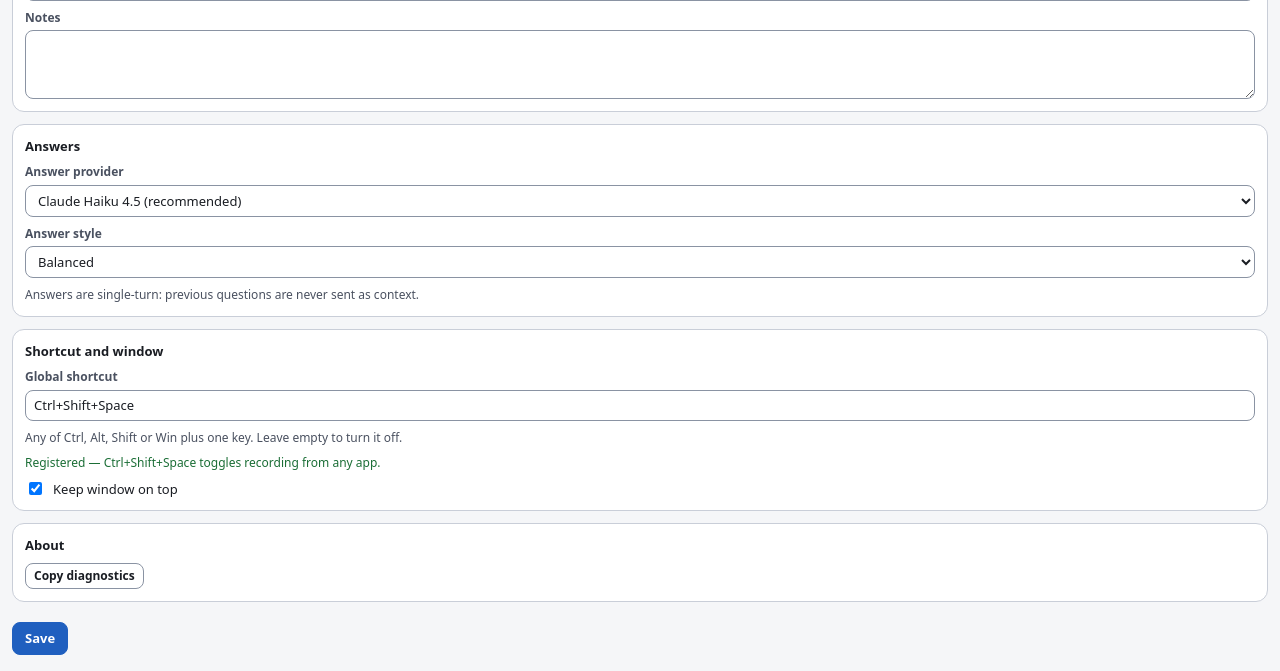
Test case: general settings › copy_diagnostics_failure_message
The width and height of the screenshot is (1280, 671).
(page scrolled)
Click the button "Copy diagnostics" at [84, 576], box [25, 563, 144, 589]
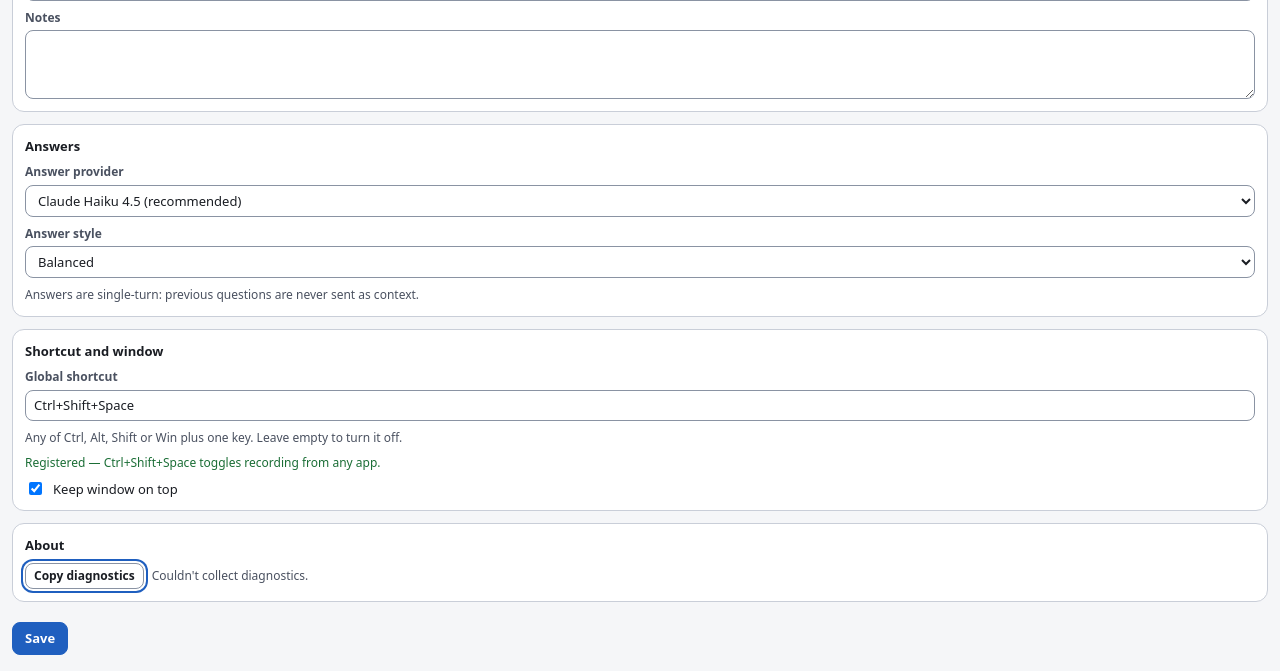
Check: the text "Couldn't collect diagnostics." is shown, box [152, 567, 308, 585]
